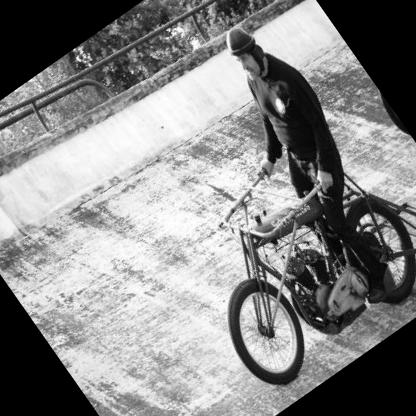moto: (142, 92, 416, 402)
